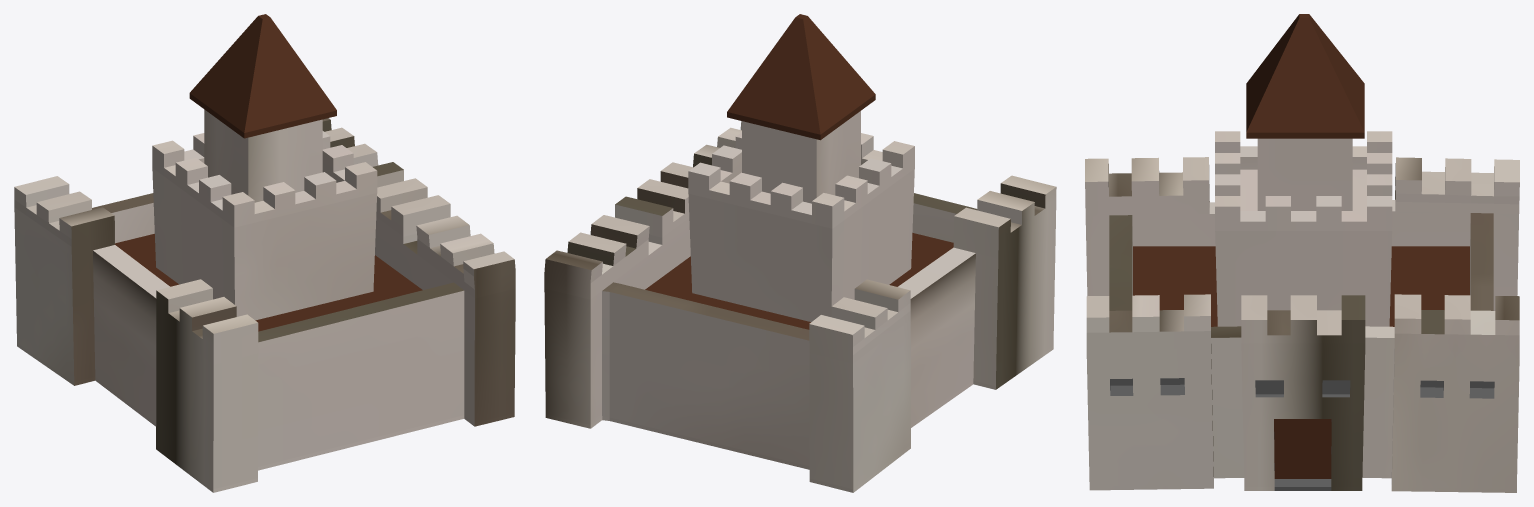
Rendered from fullcastle.fbx.
3 renders of one model, left to right at view 1: azimuth 30°, elevation 25°; view 2: azimuth 150°, elevation 25°; view 3: azimuth 270°, elevation 25°, orthographic. The views are drawn at different scales.
Parts seen in each view (by area): view 1: Cube, Cube.002, Cube.001; view 2: Cube, Cube.002, Cube.001; view 3: Cube, Cube.002, Cube.001.
Part boxes in pixels (box(x1,y1,x2,y2)): Cube: box(14, 118, 515, 492); Cube.002: box(152, 14, 377, 320); Cube.001: box(115, 234, 422, 331); Cube: box(544, 121, 1056, 492); Cube.002: box(688, 14, 914, 321); Cube.001: box(645, 233, 953, 329); Cube: box(1085, 157, 1519, 492); Cube.002: box(1215, 14, 1392, 326); Cube.001: box(1133, 246, 1469, 326).
Size of the model in its own units: 1380 by 1565 by 1554.
